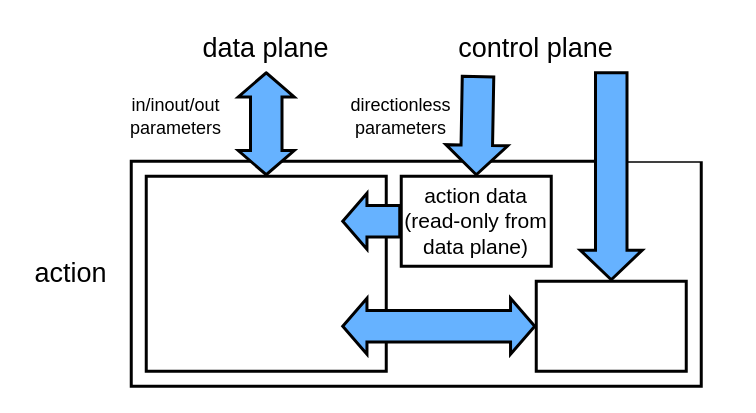
This 756x413 diagram has some shape labels left out. Here are the shapes that lost their labels. From the top down, the box of each, then its label:
(626, 70, 730, 160): parameters declared 'rmw'
(144, 174, 387, 372): action code
(534, 279, 687, 372): action data (writable from data plane)
